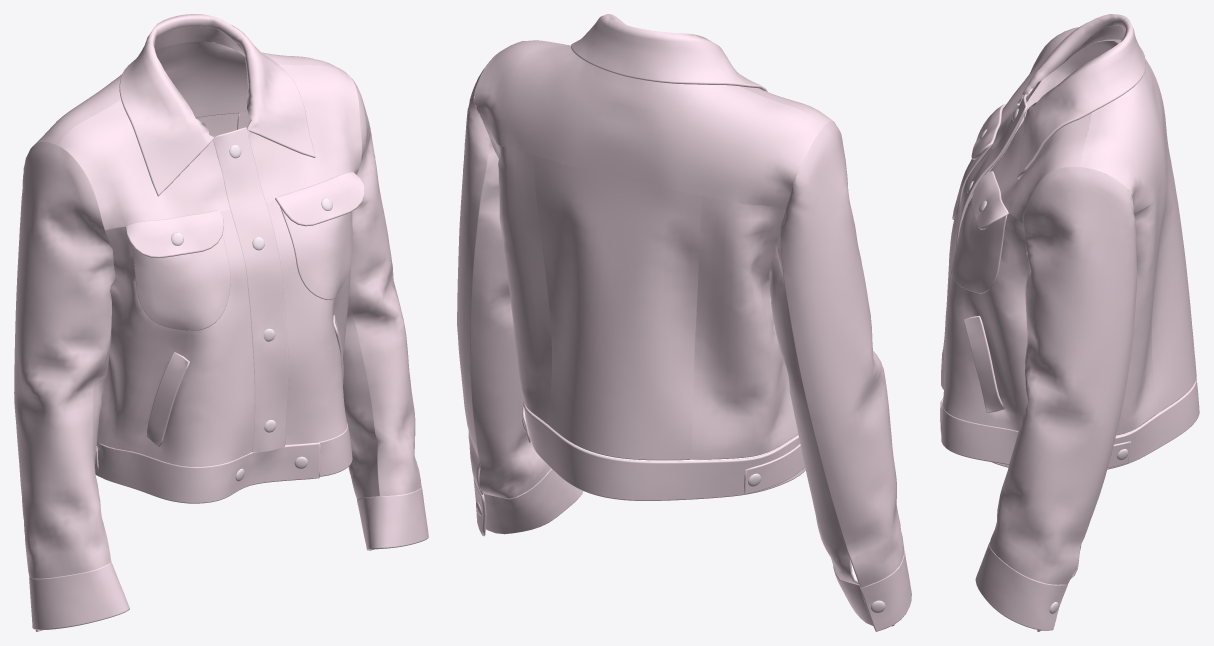
Rendered from pink_short_leather_jacket.glb.
The picture shows the model from 3 angles, left to right: view 1: azimuth 30°, elevation 25°; view 2: azimuth 150°, elevation 25°; view 3: azimuth 270°, elevation 25°; orthographic projection. The views are drawn at different scales.
Visible parts, largest first — view 1: Object_3, Object_5, Object_4, Object_2, Object_6, Object_8; view 2: Object_6, Object_3, Object_5, Object_2, Object_7, Object_4; view 3: Object_2, Object_4, Object_3, Object_6, Object_5, Object_7, Object_8.
Boxes of the visible parts, <box> form: Object_3: <box>57,64,361,466</box>; Object_5: <box>14,142,364,578</box>; Object_4: <box>96,14,358,503</box>; Object_2: <box>29,78,428,631</box>; Object_6: <box>31,41,379,499</box>; Object_8: <box>171,144,332,481</box>; Object_6: <box>470,42,823,498</box>; Object_3: <box>513,40,832,460</box>; Object_5: <box>769,120,903,587</box>; Object_2: <box>457,56,911,631</box>; Object_7: <box>523,401,805,500</box>; Object_4: <box>571,14,767,91</box>; Object_2: <box>975,166,1136,631</box>; Object_4: <box>940,14,1145,434</box>; Object_3: <box>942,27,1196,411</box>; Object_6: <box>1071,39,1166,578</box>; Object_5: <box>941,41,1117,464</box>; Object_7: <box>1107,378,1199,469</box>; Object_8: <box>950,108,1128,613</box>.
Bounding box in the file's own units: 0.4901 × 0.6504 × 0.2943.
2 materials, 1 textured.
